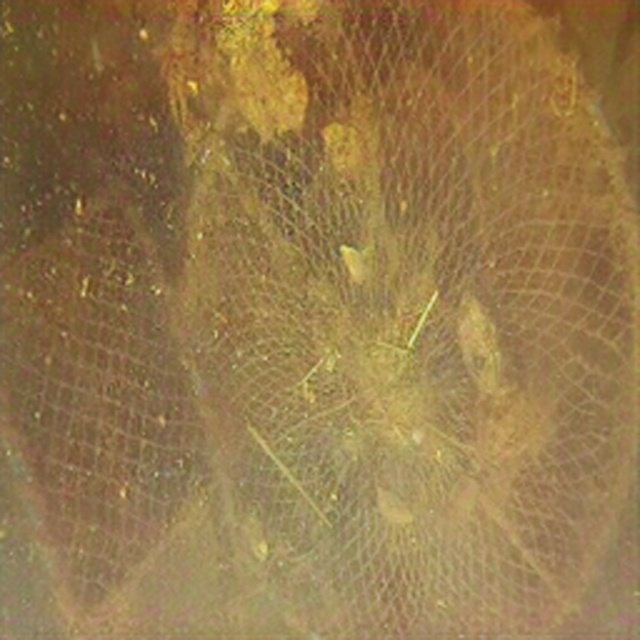mine: (181, 0, 639, 640), (0, 174, 251, 639)
